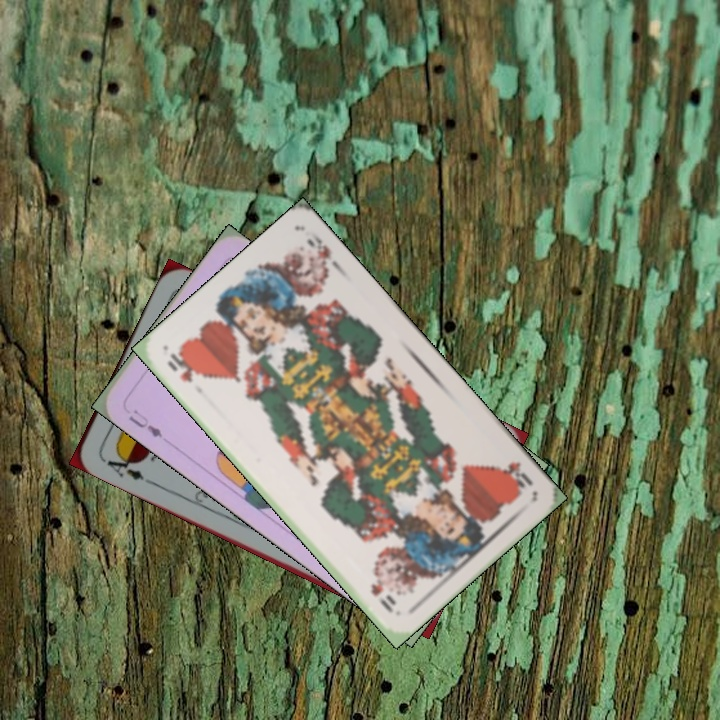EA: (98, 447, 147, 483)
EU: (124, 405, 166, 441)
HO: (493, 457, 536, 496), (163, 349, 200, 385)
